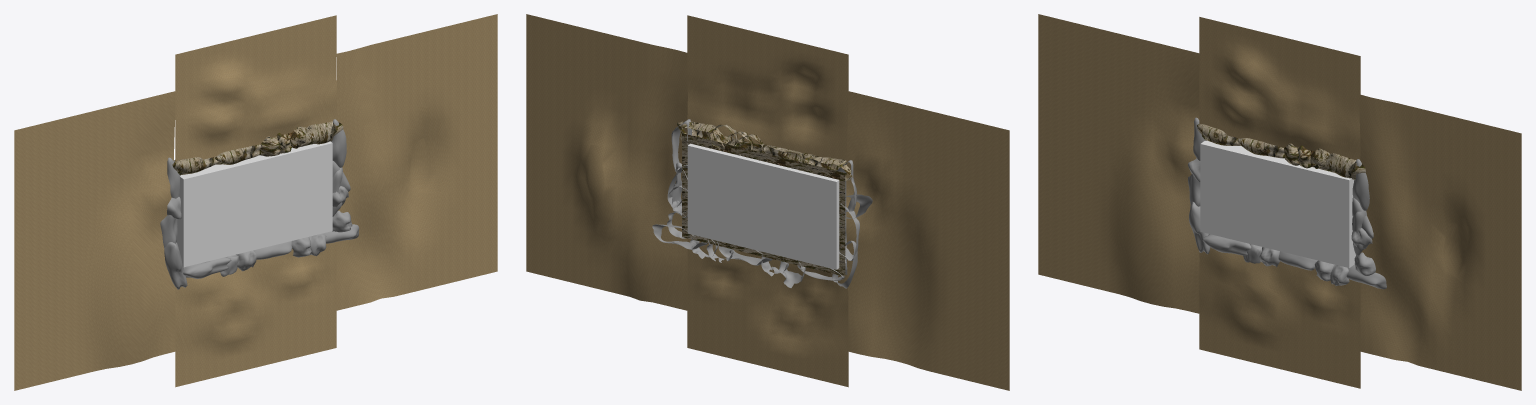
File: marsMap.FBX
3 renders of one model, left to right at view 1: azimuth 30°, elevation 25°; view 2: azimuth 150°, elevation 25°; view 3: azimuth 330°, elevation 25°, orthographic.
Parts seen in each view (by area): view 1: playField, worldBounds; view 2: playField, worldBounds; view 3: playField, worldBounds.
Part boxes in pixels (left/top/right/bottom): playField: left=14, top=14, right=497, bottom=390; worldBounds: left=177, top=141, right=332, bottom=267; playField: left=526, top=14, right=1009, bottom=390; worldBounds: left=687, top=143, right=846, bottom=269; playField: left=1038, top=14, right=1521, bottom=390; worldBounds: left=1200, top=140, right=1355, bottom=267.
Size of the model in its own units: 906 by 40.22 by 596.
